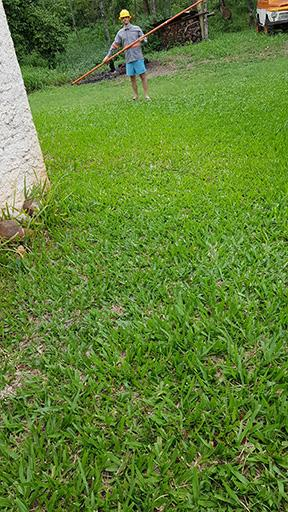Vara_Manobra: (71, 1, 200, 85)
